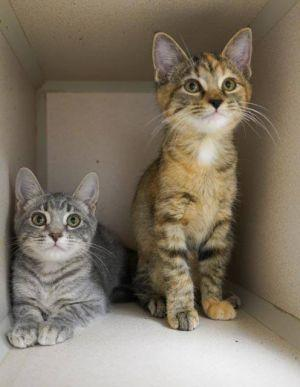bengal: (147, 23, 265, 143)
